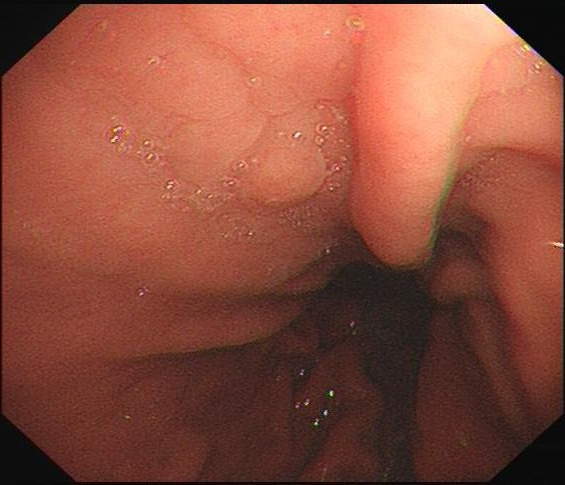Polyp: (231, 139, 329, 211)
